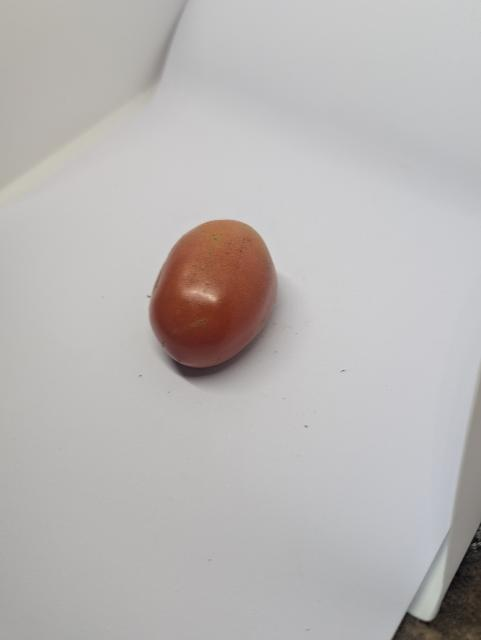red: (149, 215, 281, 384)
